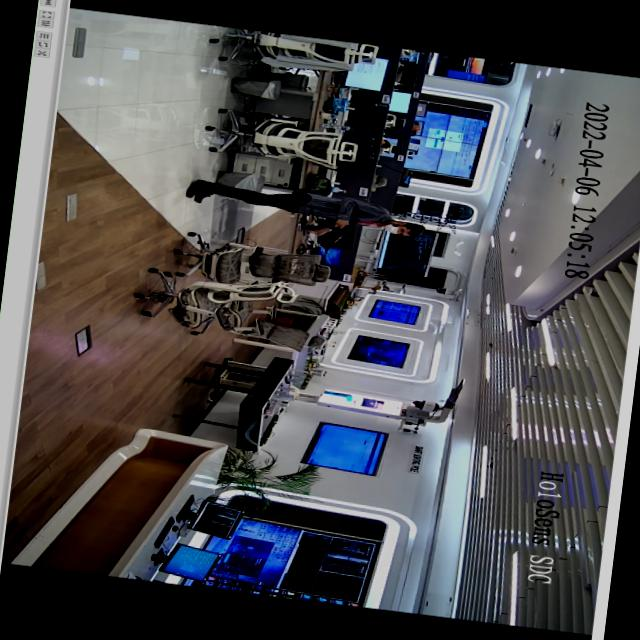long weapon: (300, 208, 366, 261)
